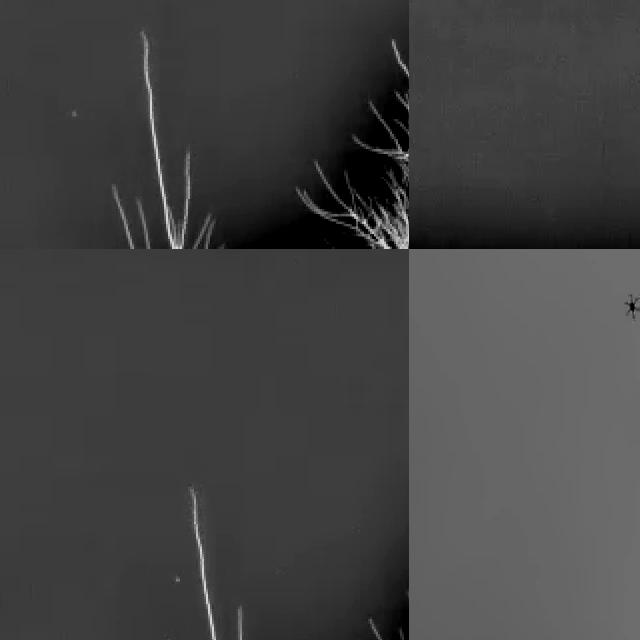0: (59, 104, 85, 132), (162, 572, 188, 592)
1: (633, 116, 640, 151)
drone: (623, 290, 640, 320)
